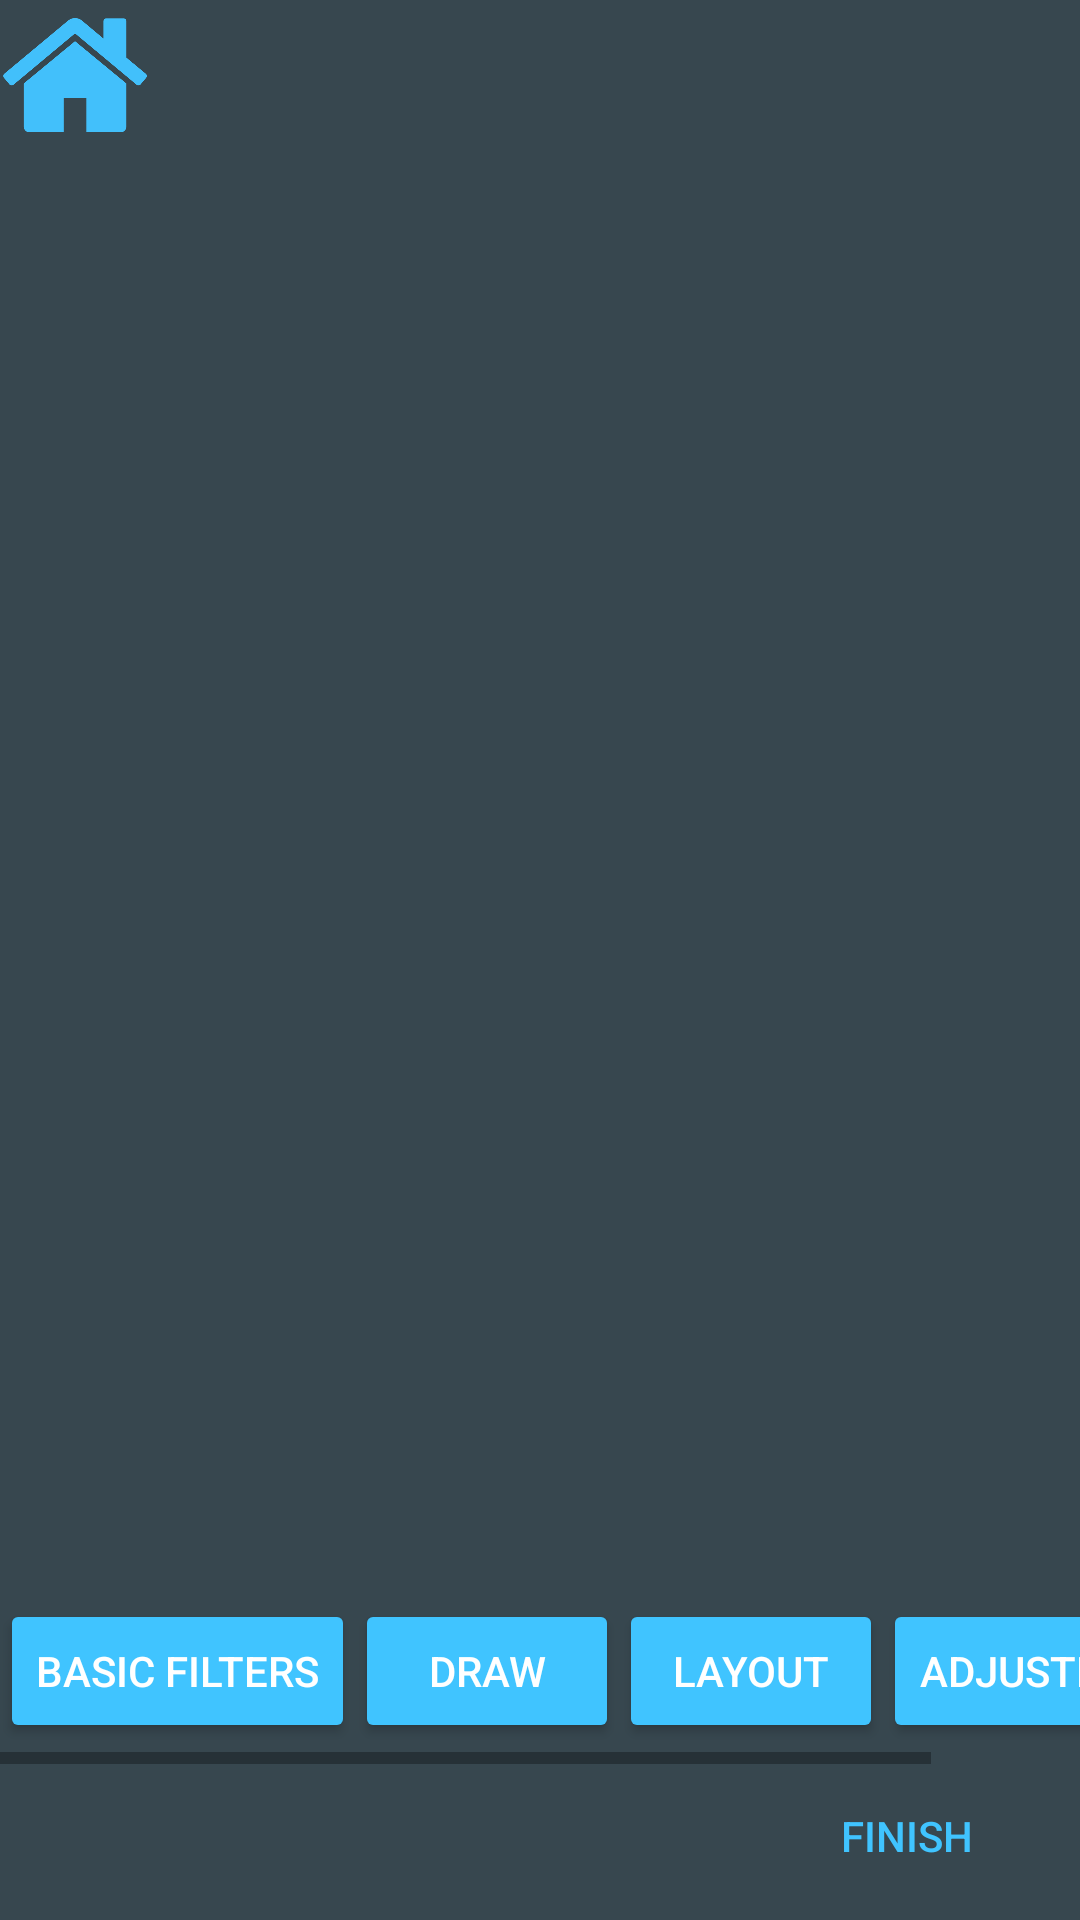

Named icons in this screenshot (1080w x 1920h) and their centers, (x=x, y=y):
home: (x=75, y=75)
